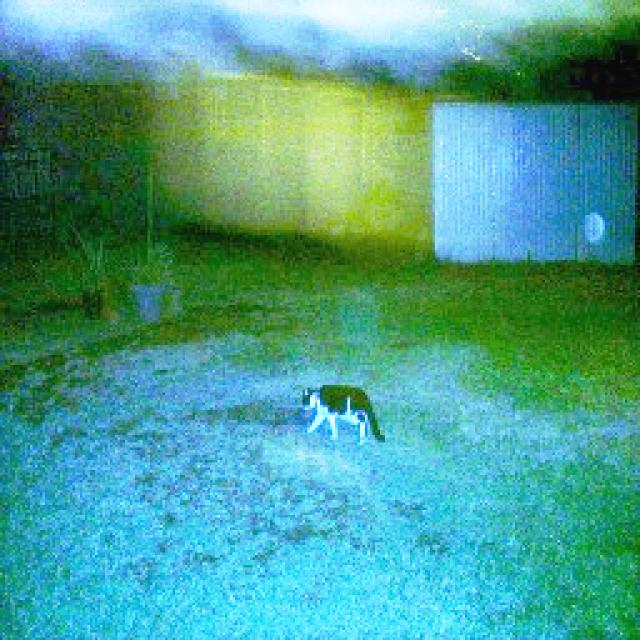cat: (300, 383, 389, 449)
